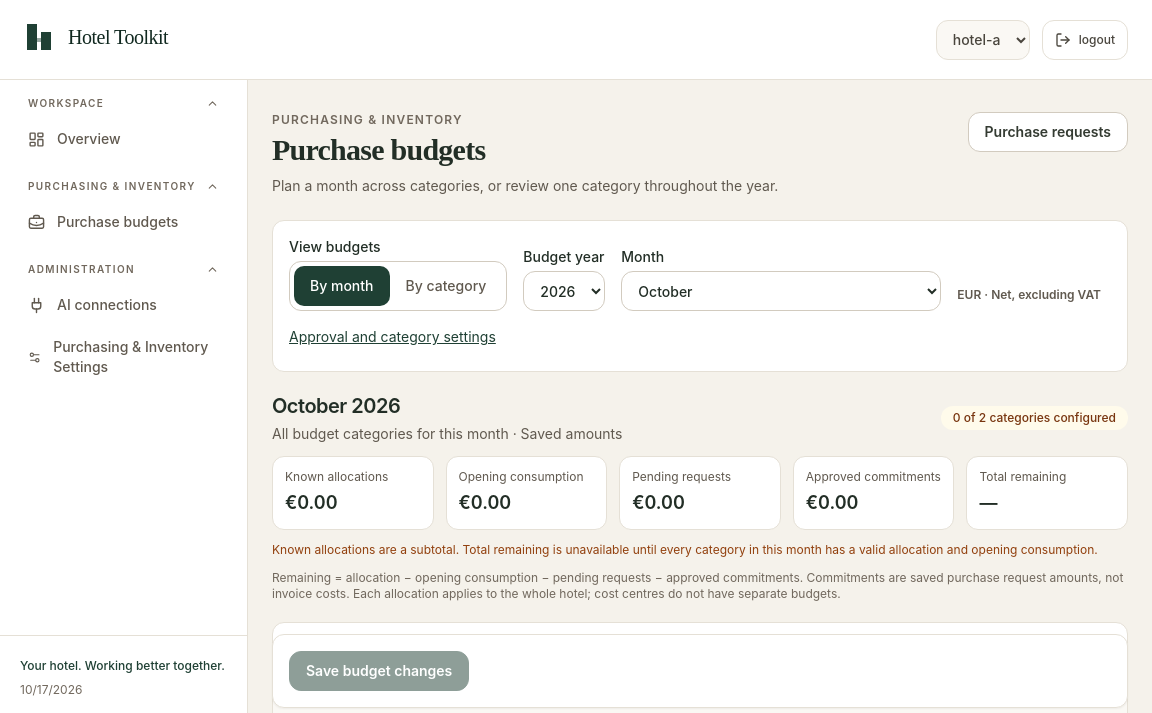
Test: opens the current month with every category and an explicitly scoped overview
This screenshot has width=1152, height=713.
Select "January" in the dropdown named "Budget month". click: (781, 291)
box: left=621, top=271, right=941, bottom=311
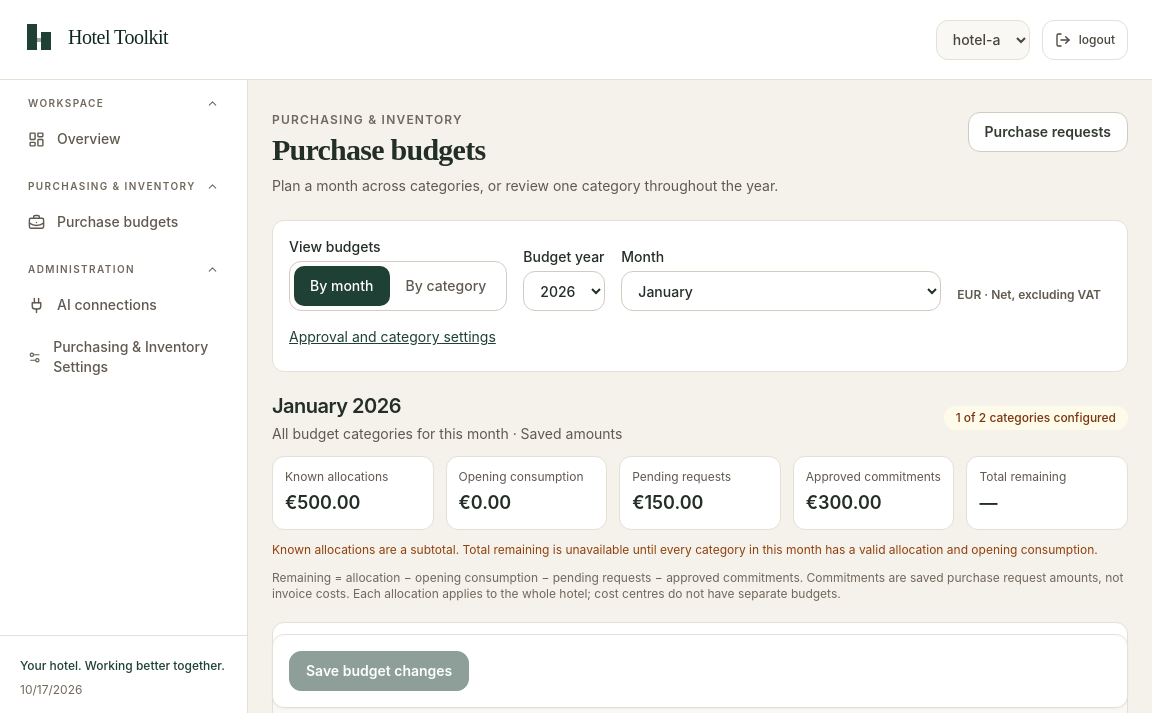
Expected: the text "1 of 2 categories configured" is shown, left=944, top=406, right=1128, bottom=430
